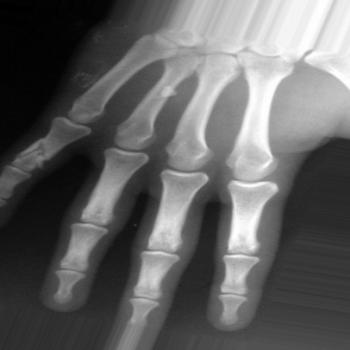Fracture: (16, 137, 56, 168)
